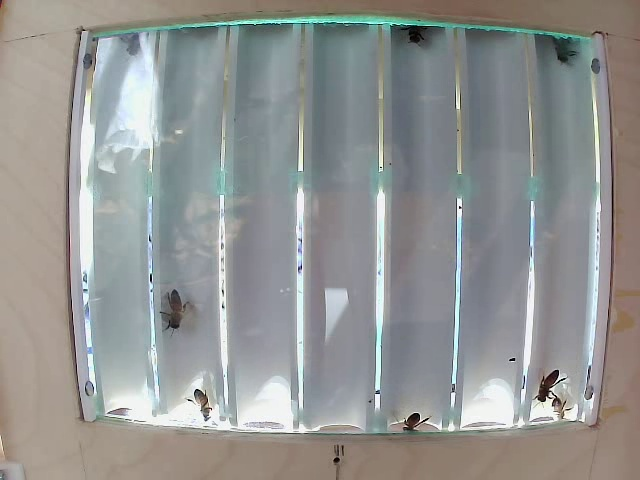bee: (540, 29, 579, 76), (401, 15, 438, 56), (159, 286, 187, 332), (182, 385, 224, 412), (531, 360, 560, 397)
